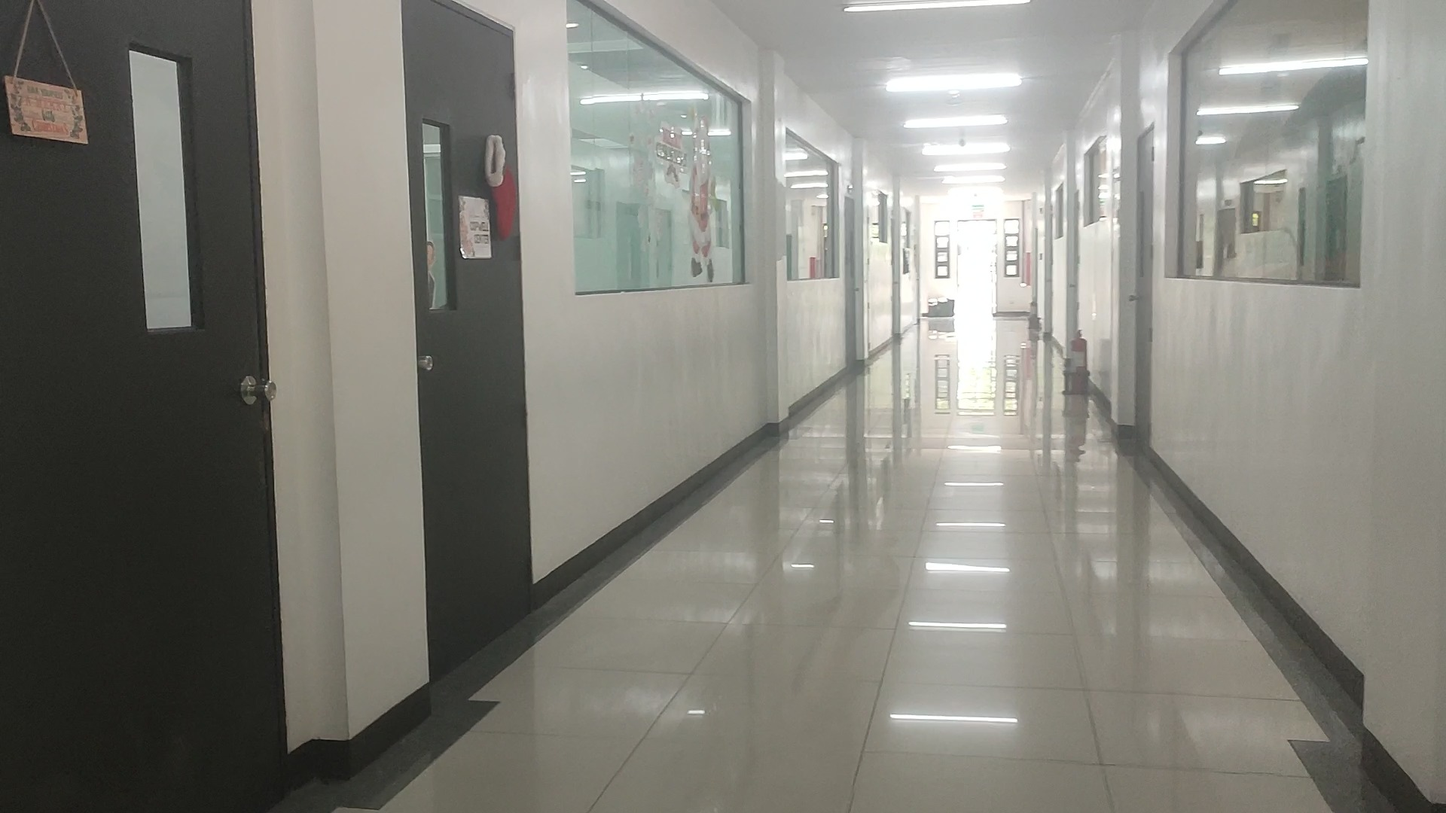door: (0, 0, 292, 813), (398, 0, 555, 687)
